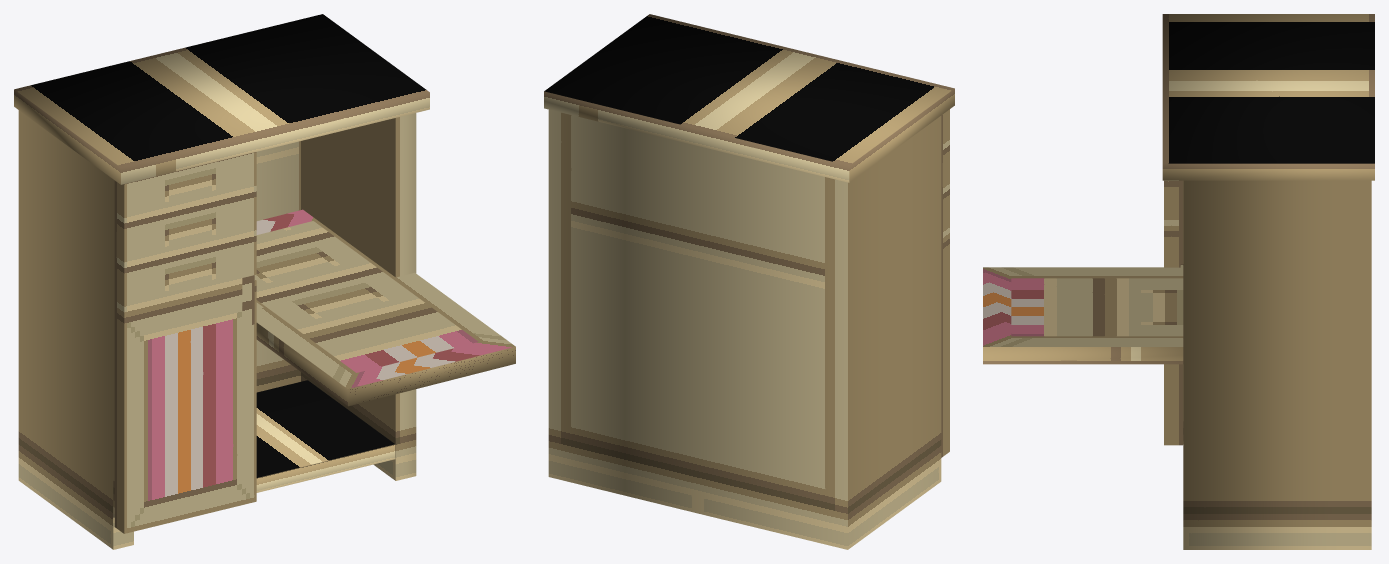
3 views of the same model, side by side, from view 1: azimuth 30°, elevation 25°; view 2: azimuth 150°, elevation 25°; view 3: azimuth 270°, elevation 25° (orthographic).
Parts seen in each view (by area): view 1: 3125IMRL09_18; view 2: 3125IMRL09_18; view 3: 3125IMRL09_18.
Boxes of the visible parts, x1,y1,x2,y2 form: 3125IMRL09_18: [14, 14, 515, 549]; 3125IMRL09_18: [544, 14, 954, 549]; 3125IMRL09_18: [983, 14, 1374, 549].
Bounding box in the file's own units: 1.65 × 1.99 × 1.83.
1 material, 1 textured.
